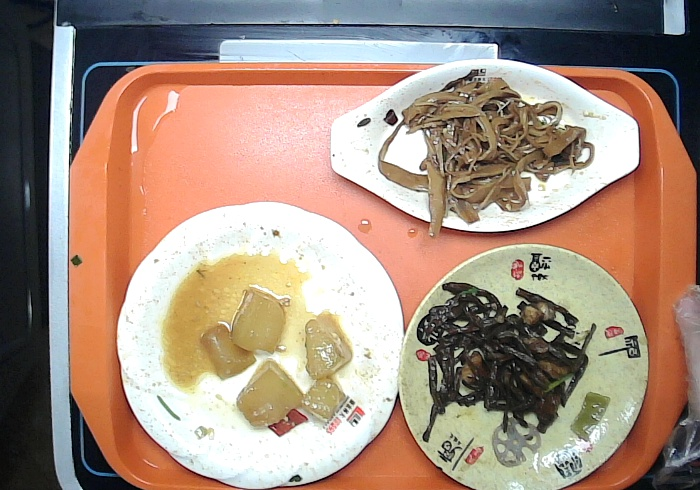NLDX-Bai_Zhe_Yuan_Pan: (113, 194, 407, 488)
NLDX-Fu_Zi_Yuan_Pan: (397, 245, 643, 490)
NLDX-Yu_Pan: (320, 57, 642, 236)
